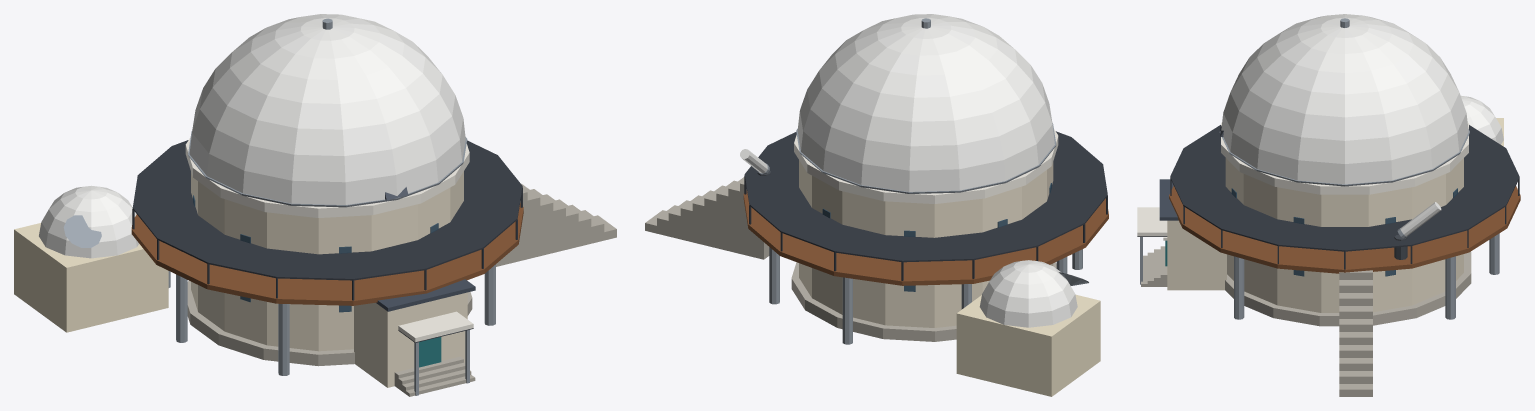
Rendered from BUILDING_19.obj.
3 renders of one model, left to right at view 1: azimuth 30°, elevation 25°; view 2: azimuth 150°, elevation 25°; view 3: azimuth 270°, elevation 25°, orthographic. The views are drawn at different scales.
Parts seen in each view (by area): view 1: dome, platform_rail, drum, service_block, platform, entrance, service_dome, platform_stairs, drum_cornice, drum_base, platform_supports, canopies (+5 smaller); view 2: dome, platform_rail, drum, service_block, platform, service_dome, platform_stairs, drum_cornice, drum_base, platform_supports, dome_ribs, telescope; view 3: dome, platform_rail, drum, platform, platform_stairs, entrance, drum_base, drum_cornice, platform_supports, service_dome, canopies, steps (+4 smaller).
Boxes of the visible parts, left/top/right/bottom form: dome: left=189, top=14, right=465, bottom=204; platform_rail: left=132, top=140, right=522, bottom=300; drum: left=191, top=171, right=463, bottom=351; service_block: left=14, top=223, right=168, bottom=332; platform: left=131, top=203, right=523, bottom=305; entrance: left=354, top=292, right=467, bottom=387; service_dome: left=39, top=185, right=138, bottom=258; platform_stairs: left=496, top=183, right=616, bottom=266; drum_cornice: left=185, top=137, right=469, bottom=217; drum_base: left=187, top=280, right=472, bottom=366; platform_supports: left=168, top=264, right=495, bottom=375; canopies: left=398, top=311, right=473, bottom=395; dome: left=797, top=14, right=1054, bottom=191; platform_rail: left=744, top=131, right=1107, bottom=280; drum: left=799, top=160, right=1053, bottom=327; service_block: left=956, top=294, right=1100, bottom=396; platform: left=743, top=190, right=1108, bottom=285; service_dome: left=979, top=260, right=1077, bottom=327; platform_stairs: left=645, top=177, right=769, bottom=259; drum_cornice: left=794, top=129, right=1058, bottom=203; drum_base: left=791, top=262, right=1056, bottom=341; platform_supports: left=769, top=247, right=1082, bottom=344; dome_ribs: left=796, top=123, right=1056, bottom=193; telescope: left=740, top=149, right=770, bottom=175; dome: left=1221, top=14, right=1468, bottom=184; platform_rail: left=1170, top=125, right=1519, bottom=269; drum: left=1225, top=158, right=1463, bottom=312; platform: left=1169, top=186, right=1520, bottom=273; platform_stairs: left=1339, top=270, right=1372, bottom=396; entrance: left=1167, top=220, right=1226, bottom=290; drum_base: left=1225, top=251, right=1471, bottom=326; drum_cornice: left=1221, top=122, right=1468, bottom=194; platform_supports: left=1234, top=233, right=1499, bottom=319; service_dome: left=1461, top=95, right=1503, bottom=144; canopies: left=1137, top=207, right=1167, bottom=284; steps: left=1141, top=246, right=1167, bottom=286.
Size of the model in its own units: 28 by 14.9 by 20.5.
